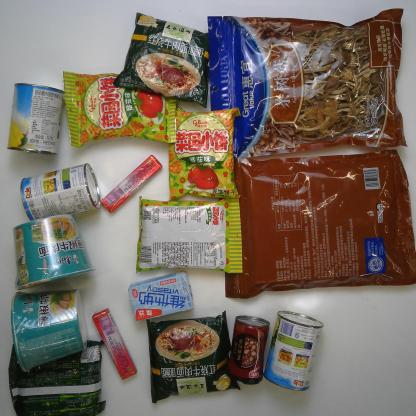Candy: (100, 154, 161, 214), (92, 307, 138, 381)
Canned Food: (19, 158, 101, 223), (264, 306, 324, 394), (9, 76, 65, 160), (226, 313, 269, 388)
Dried Food: (204, 6, 412, 159), (221, 146, 415, 299)
Instant Noodles: (137, 300, 240, 406), (114, 12, 218, 110), (5, 334, 109, 416), (6, 281, 92, 373), (12, 211, 98, 291)
Milk: (126, 267, 196, 325)
Puffed Food: (130, 187, 248, 277), (59, 67, 180, 146), (164, 101, 247, 205)
